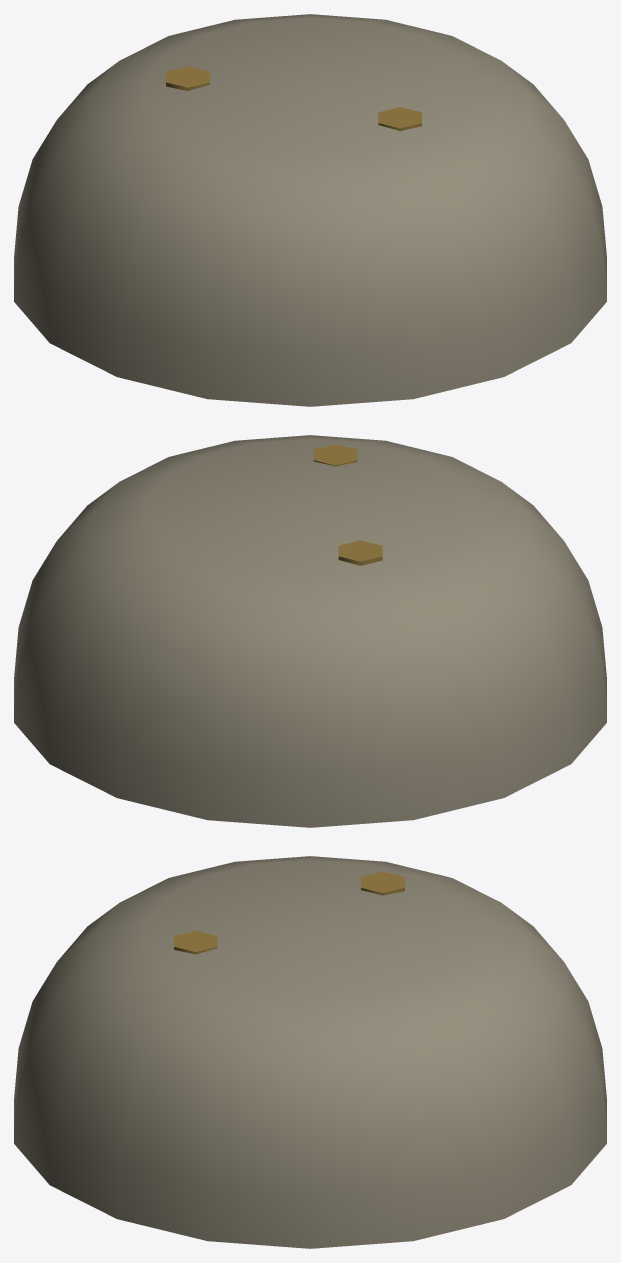
Rendered from mochi.obj.
3 views of the same model, one above another, from view 1: azimuth 30°, elevation 25°; view 2: azimuth 150°, elevation 25°; view 3: azimuth 270°, elevation 25° (orthographic).
Parts seen in each view (by area): view 1: mochi; view 2: mochi; view 3: mochi.
Boxes of the visible parts, left/top/right/bottom form: mochi: left=14, top=14, right=606, bottom=406; mochi: left=14, top=435, right=606, bottom=827; mochi: left=14, top=856, right=606, bottom=1248.
Size of the model in its own units: 1.7 by 0.62 by 1.67.
